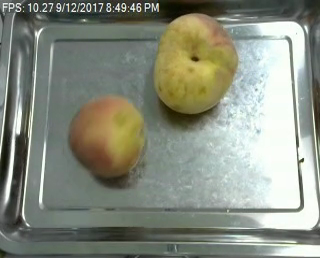Peach: (154, 12, 237, 114), (67, 94, 146, 178)
